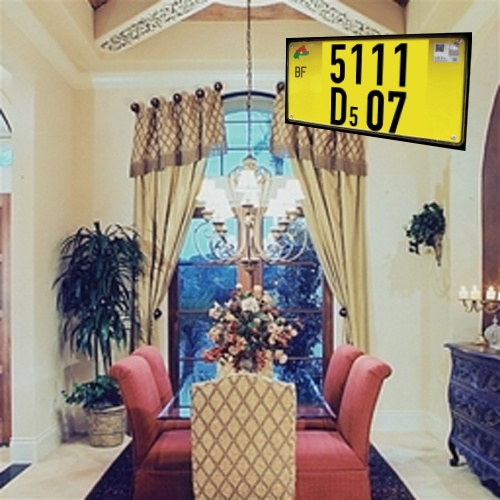plate: (272, 28, 481, 160)
